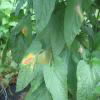Tomato Early blight leaf: (15, 39, 45, 92)
